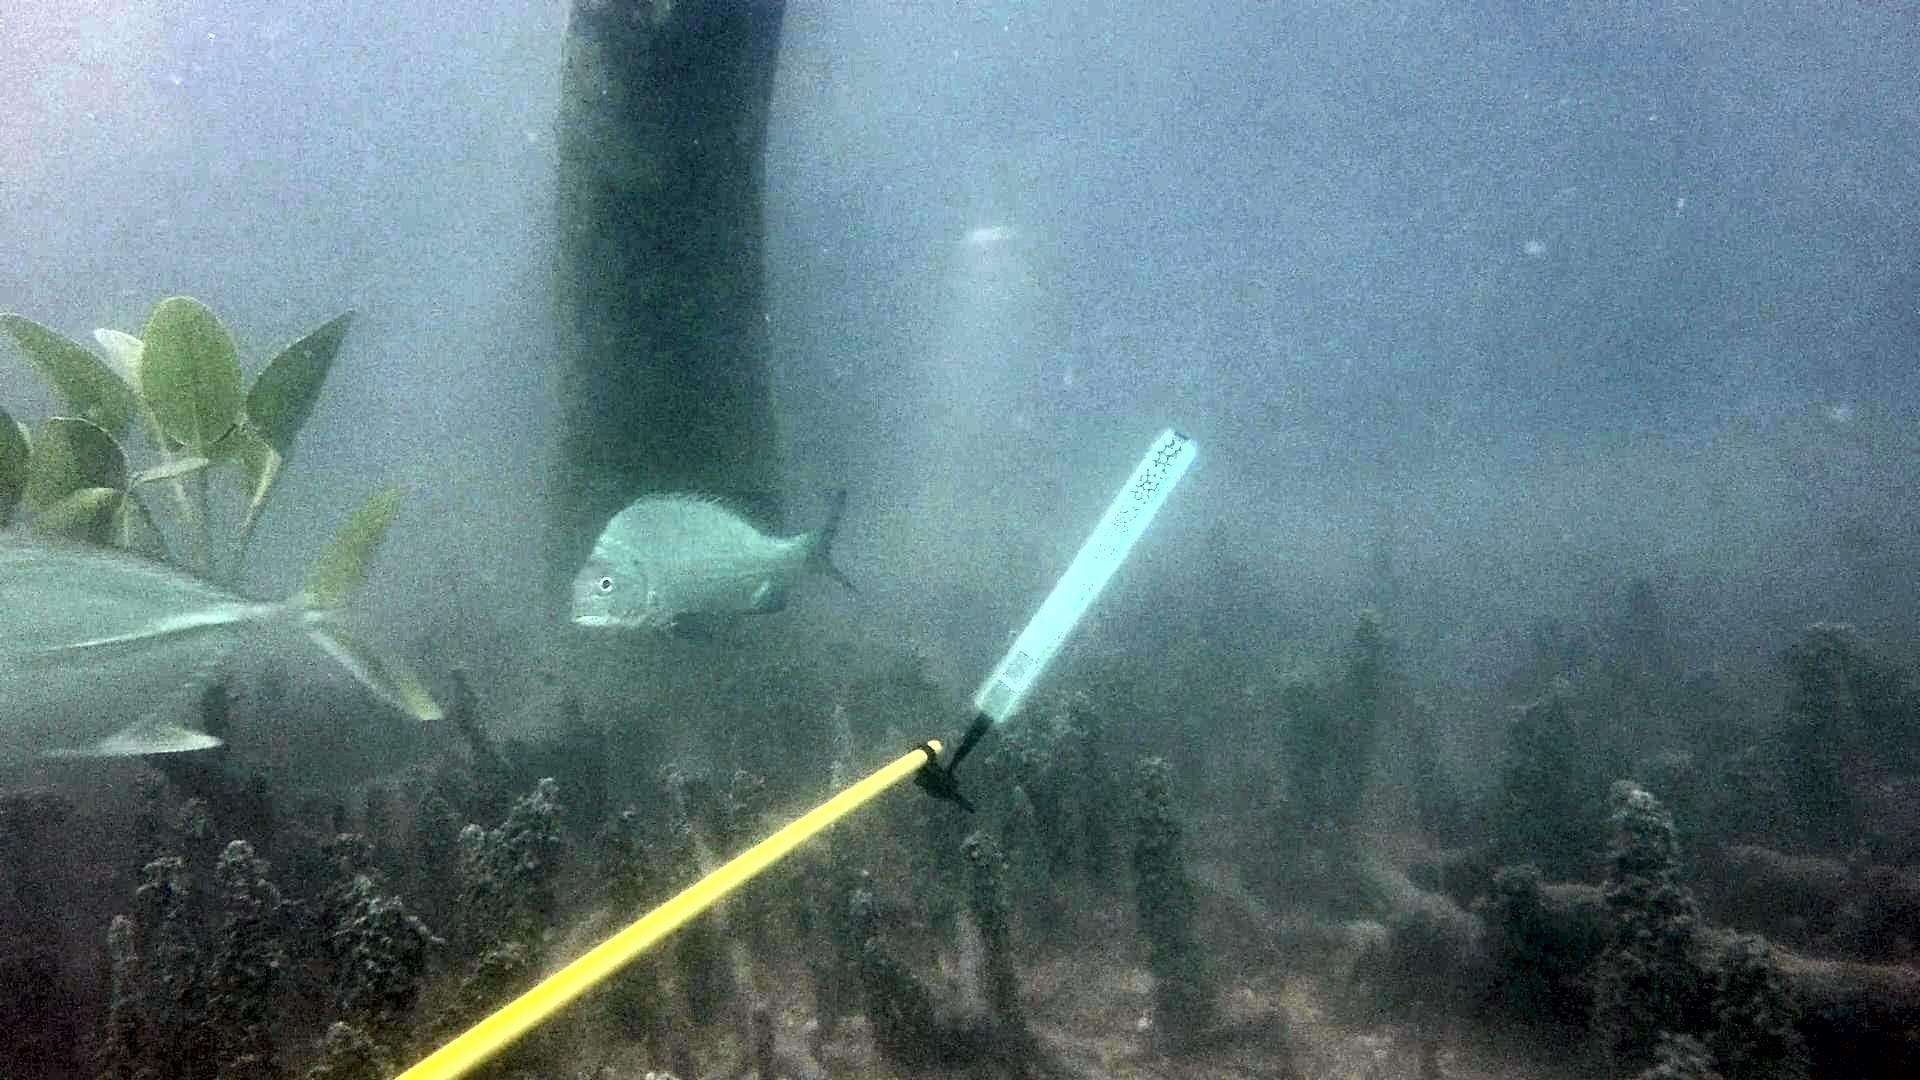acanthopagrus palmaris: (553, 468, 877, 667)
caranx: (0, 480, 447, 796)
